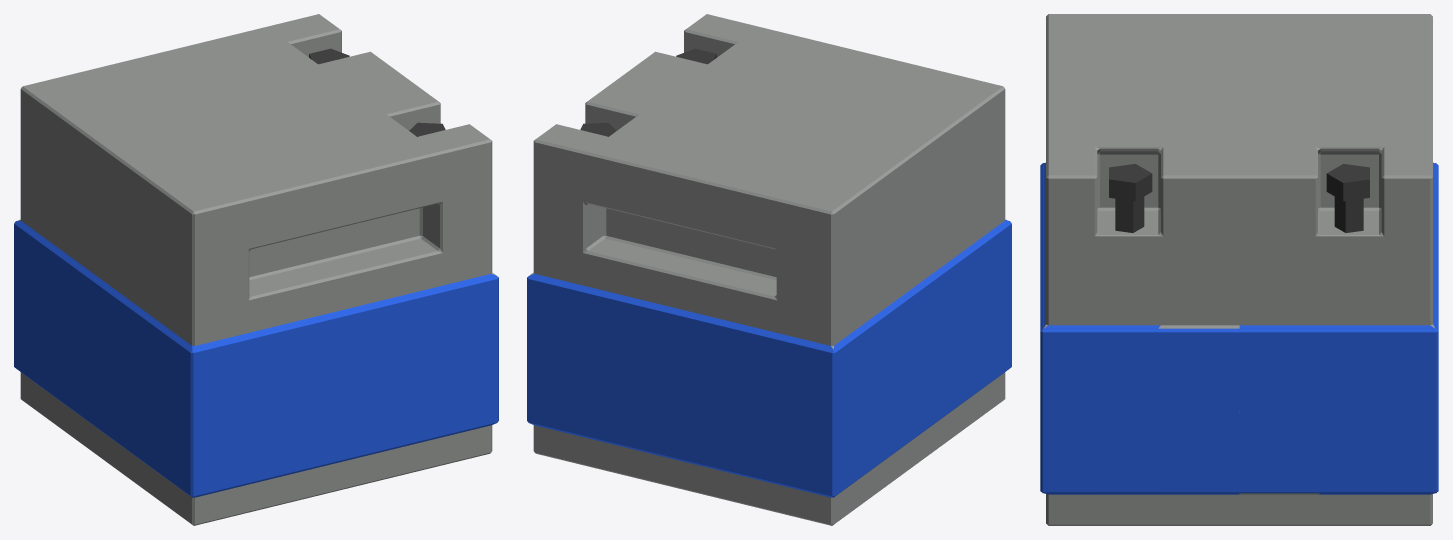
Rendered from Battery.fbx.
3 renders of one model, left to right at view 1: azimuth 30°, elevation 25°; view 2: azimuth 150°, elevation 25°; view 3: azimuth 270°, elevation 25°, orthographic. The views are drawn at different scales.
Visible parts, largest first — view 1: Cube, Cylinder; view 2: Cube, Cylinder; view 3: Cube, Cylinder.
Part boxes in pixels (x1,y1,x2,y2): Cube: (14,14,498,525); Cylinder: (309,48,445,136); Cube: (527,14,1011,525); Cylinder: (580,48,716,136); Cube: (1040,14,1438,525); Cylinder: (1109,164,1369,232).
Size of the model in its own units: 205 by 200 by 206.
